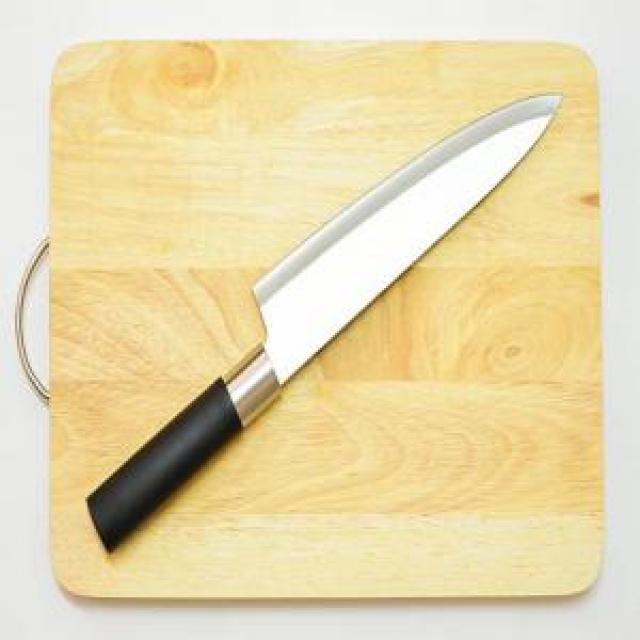knife: (88, 90, 566, 559)
